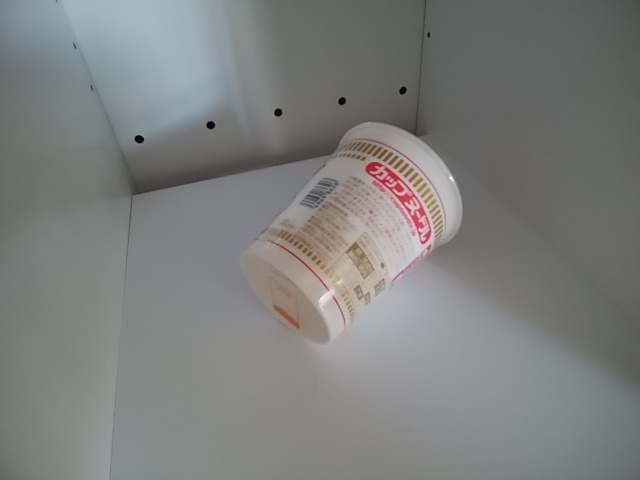cup-ramen: (236, 122, 470, 350)
